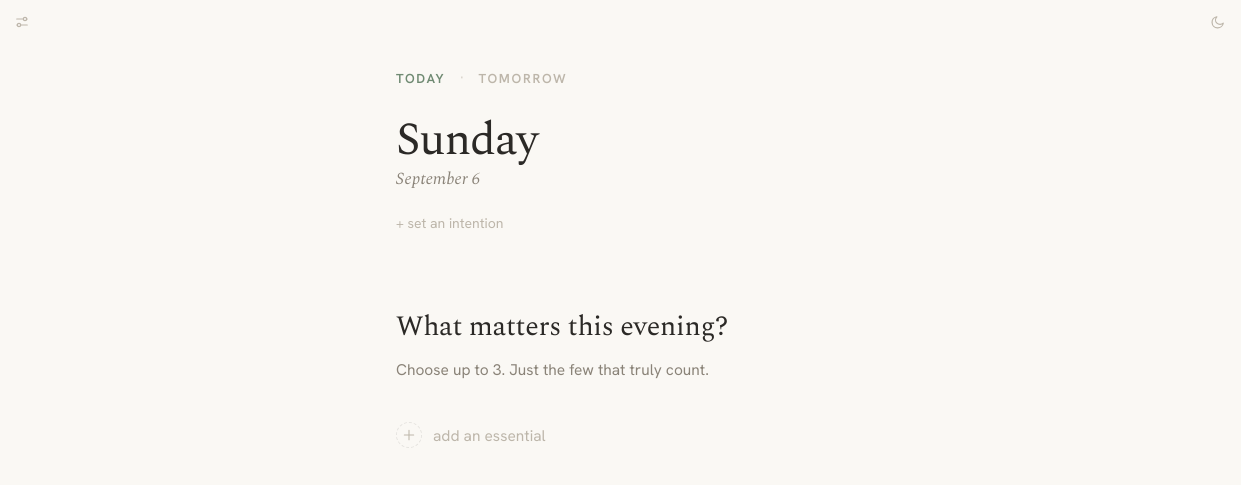
it: adding and the cap › reveals an input and adds an essential on Enter
Click the button "add an essential" at (471,435), box [396, 402, 546, 468]
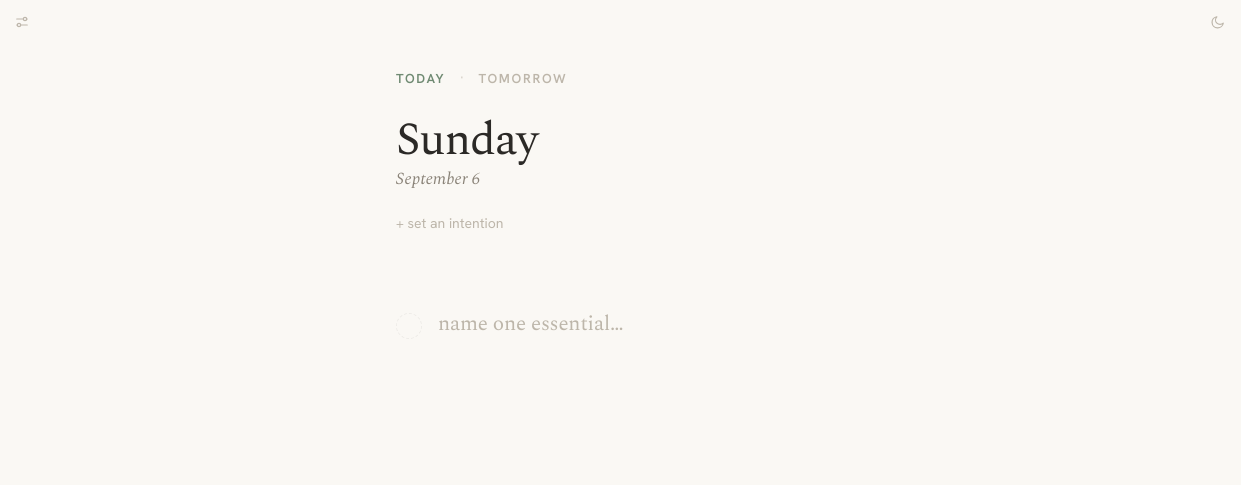
Type "Write the letter" into the field named "New essential" at (641,325), box [438, 310, 844, 340]
Then press Enter
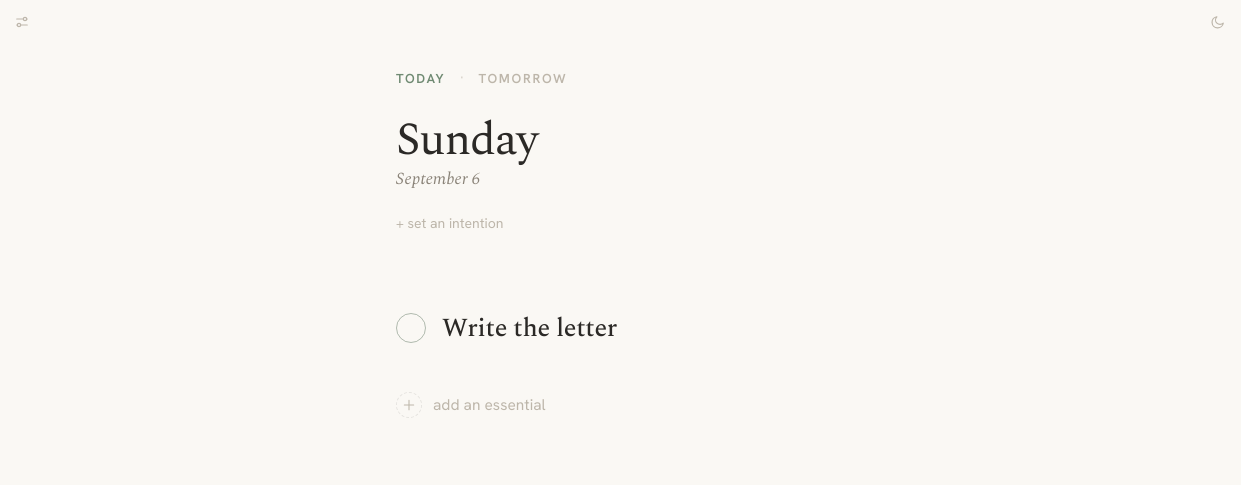
Expected: the text "Write the letter" is shown, [442, 310, 617, 346]
